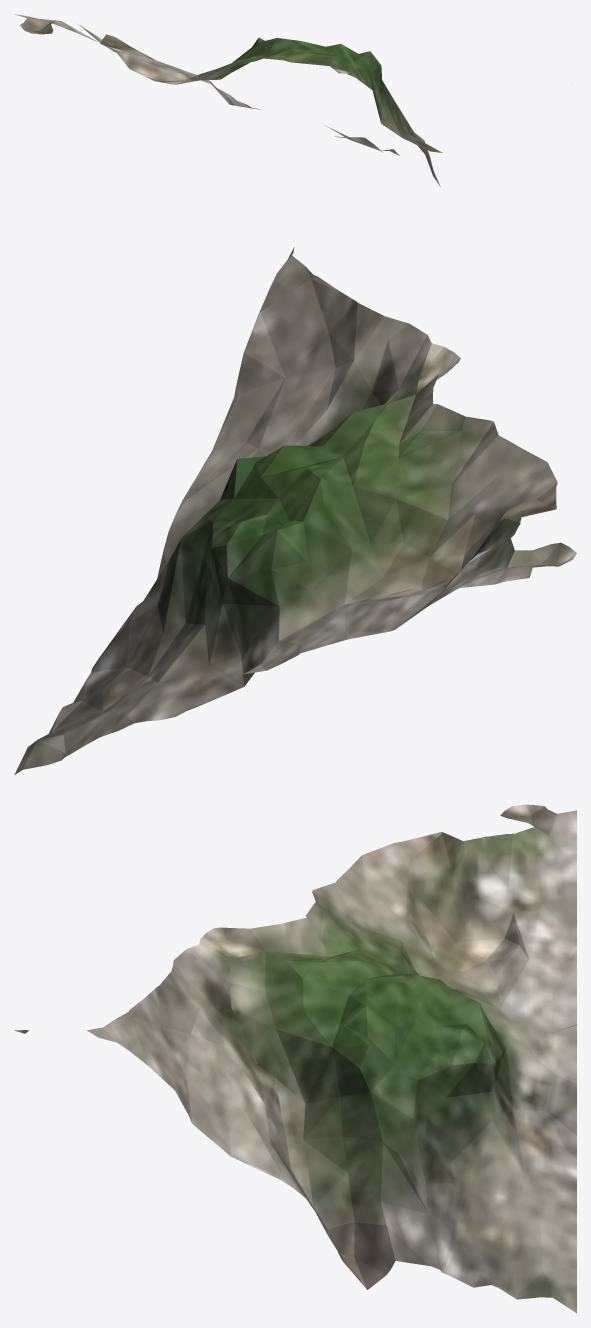
The picture shows the model from 3 angles, top to bottom: view 1: azimuth 30°, elevation 25°; view 2: azimuth 150°, elevation 25°; view 3: azimuth 270°, elevation 25°; orthographic projection. The views are drawn at different scales.
Size of the model in its own units: 1.22 by 0.7138 by 1.29.
Materials: 1 (1 with a texture image).
